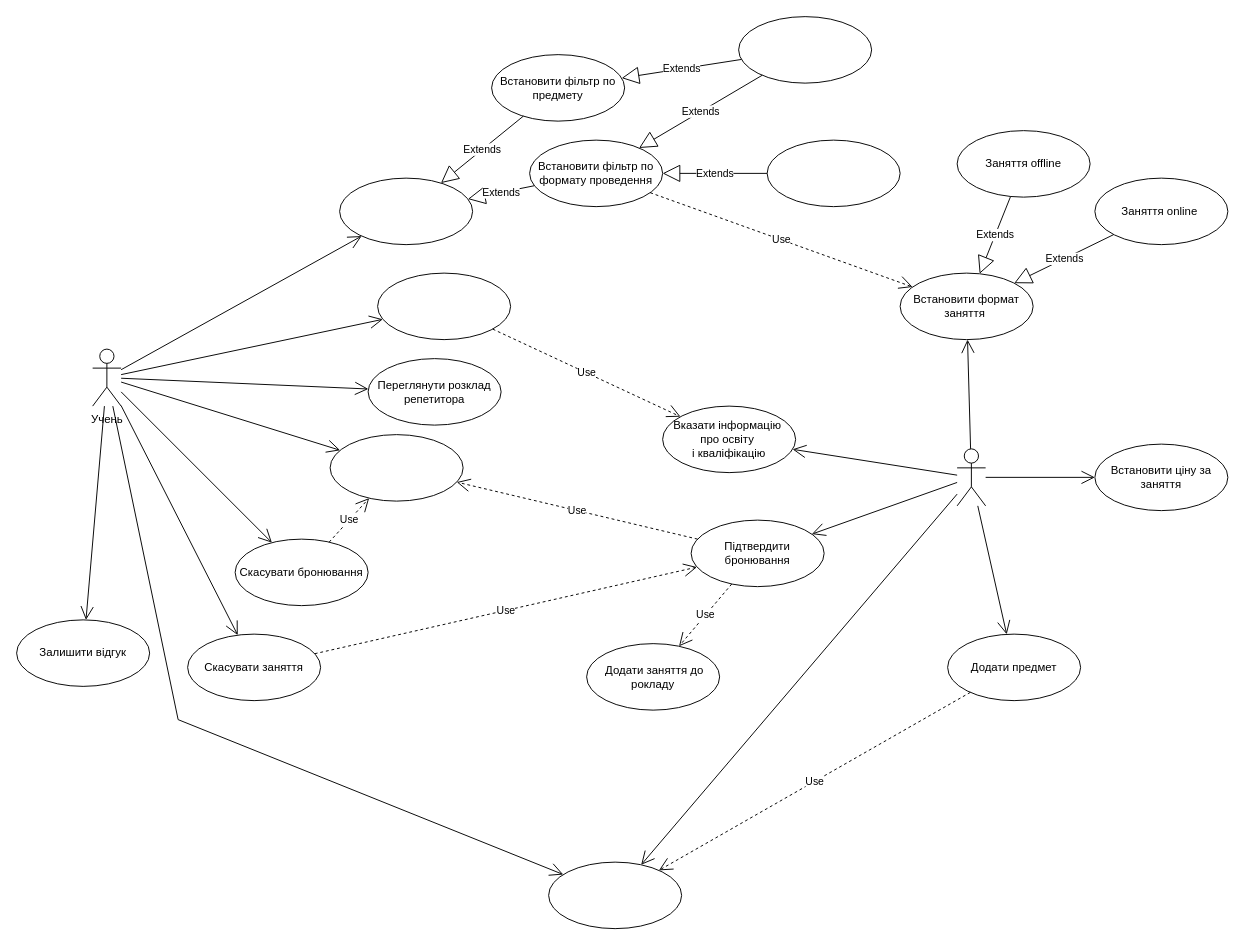
Image size: 1245x945. Some labels were removed from this diagram. Here are the shapes that lost their labels. From the top down, the centre of each, then its label:
point 805,49: Встановити фільтр по ціні
point 833,173: Встановити фільтр по місту
point 406,211: Пошук репетитора
point 444,306: Переглянути профіль репетитора
point 396,467: Забронювати заняття
point 971,477: Репетитор
point 615,895: Редагувати профіль
